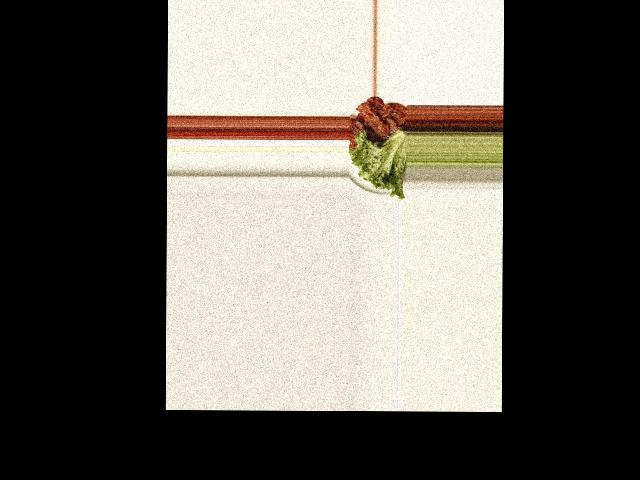lettuce: (350, 130, 407, 196)
